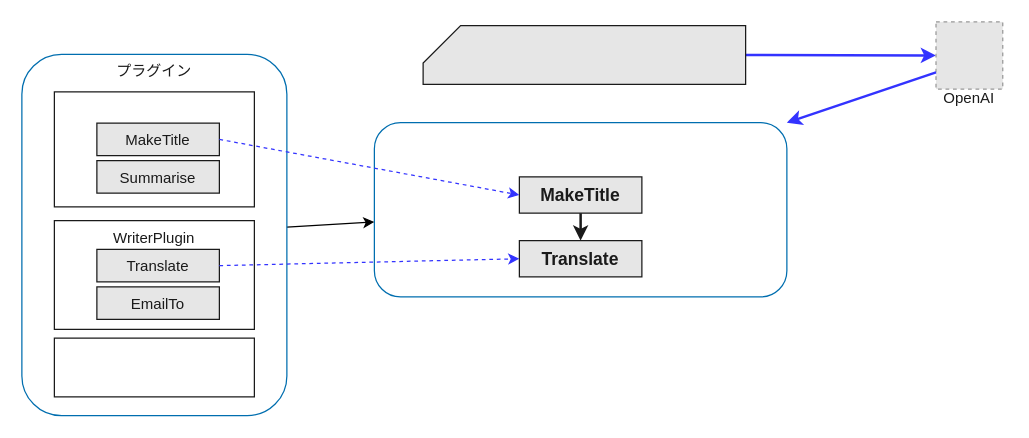
This 1029x438 diagram has some shape labels left out. Grey dashed boxes stand in for pictures. Here are the shapes that lost their labels. From the top down, the box of each, then its label:
(422, 24, 746, 84): 目標： 以下の文章にタイトルをつけて。タイトルはフランス語にしてほしい。
(53, 91, 254, 207): SummarizePlugin
(373, 121, 787, 297): 実行計画
(53, 337, 254, 397): TextPlugin
